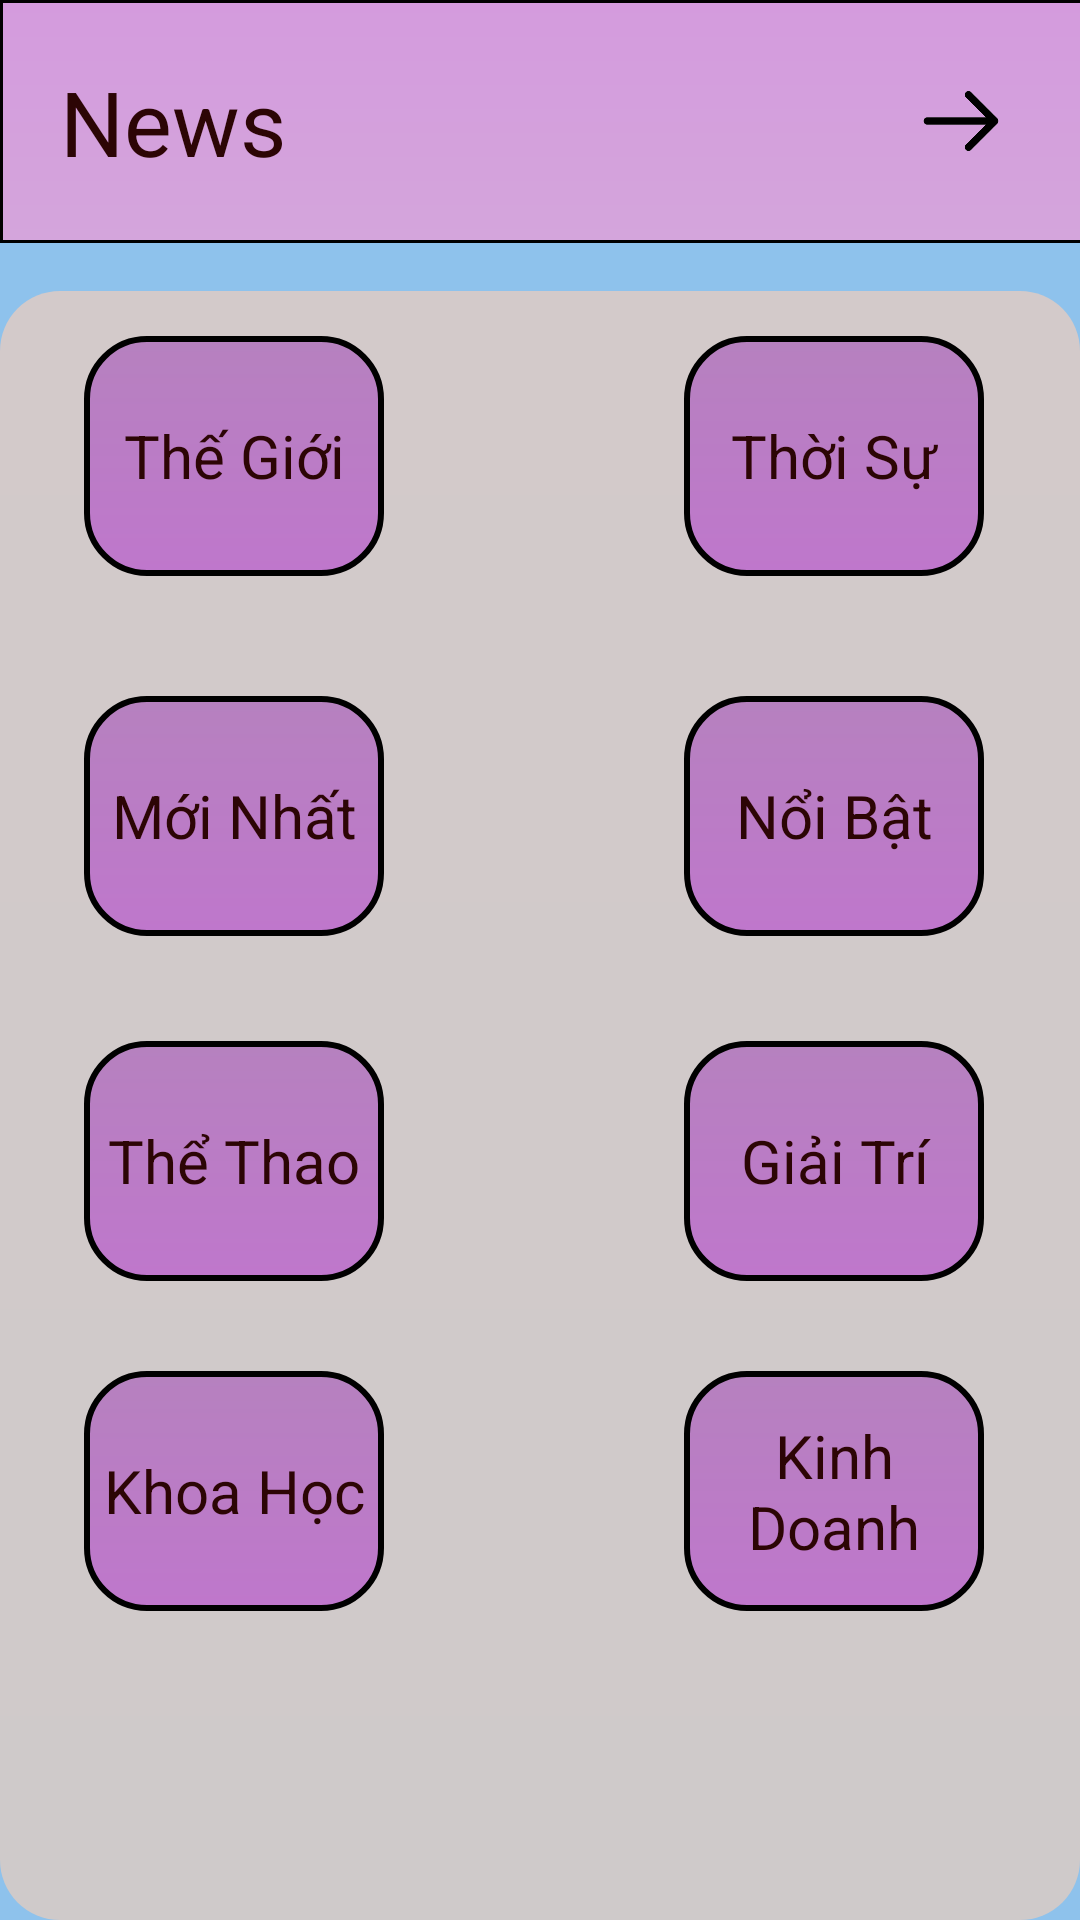

Locate icon controls on the screen. Image size 1080*1920, boxes as (x1,y1,x2,y2).
next: (923,91,999,151)
